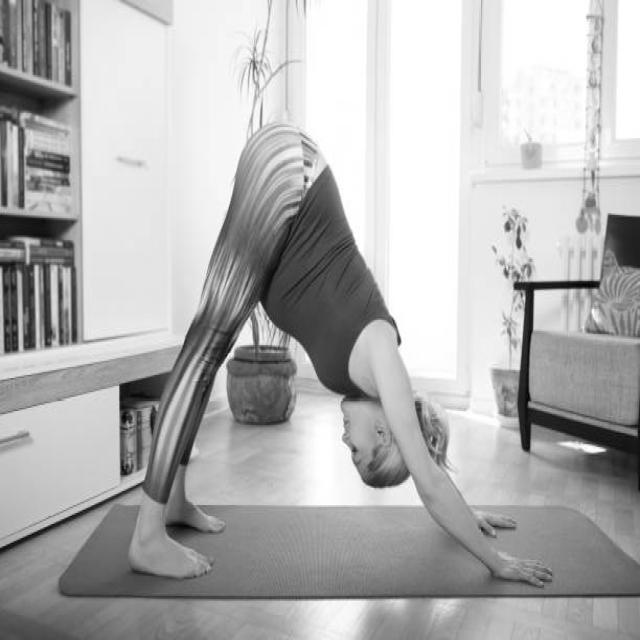Downward-Facing_Dog: (120, 121, 559, 590)
